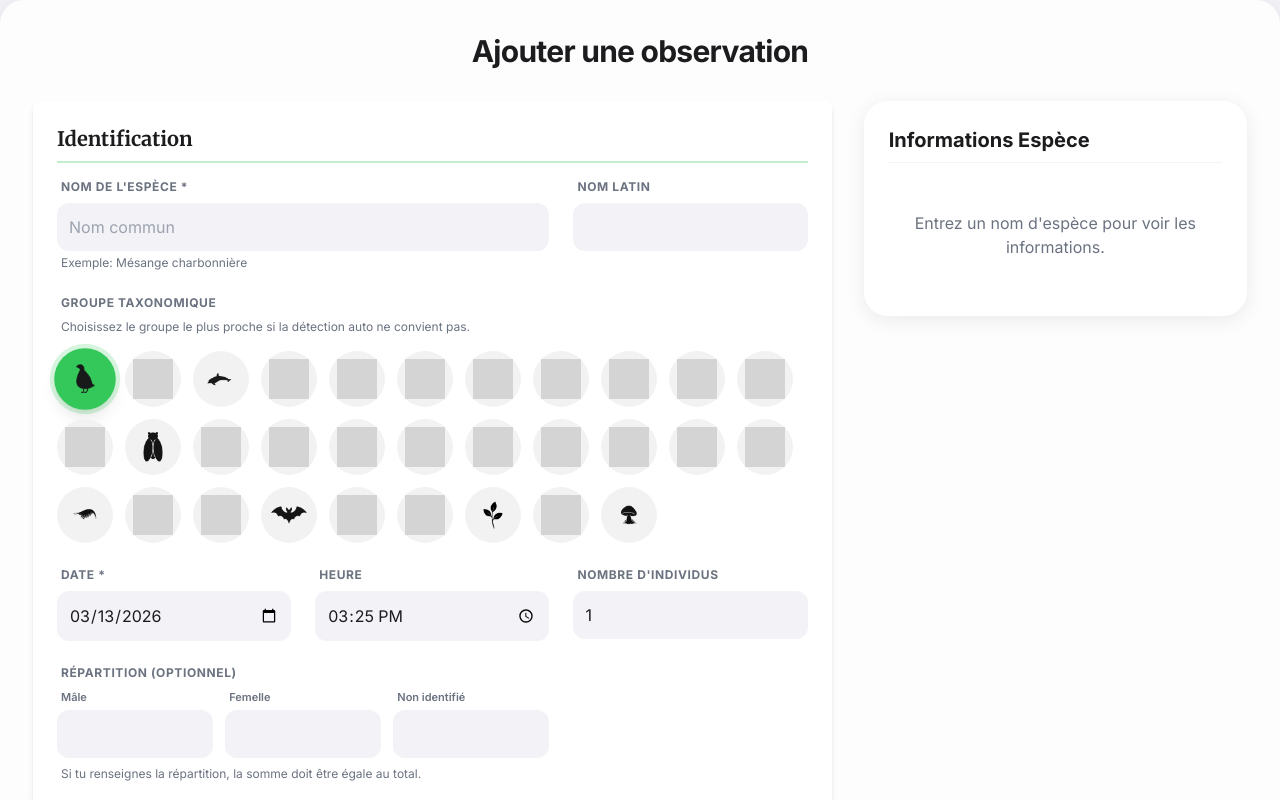
Test: ObservationForm species autocomplete › closes suggestions on escape
This screenshot has width=1280, height=800.
Step 1. Type "Mes" into the field labelled "Nom de l'espèce *" → (303, 227), box [57,203,549,251]
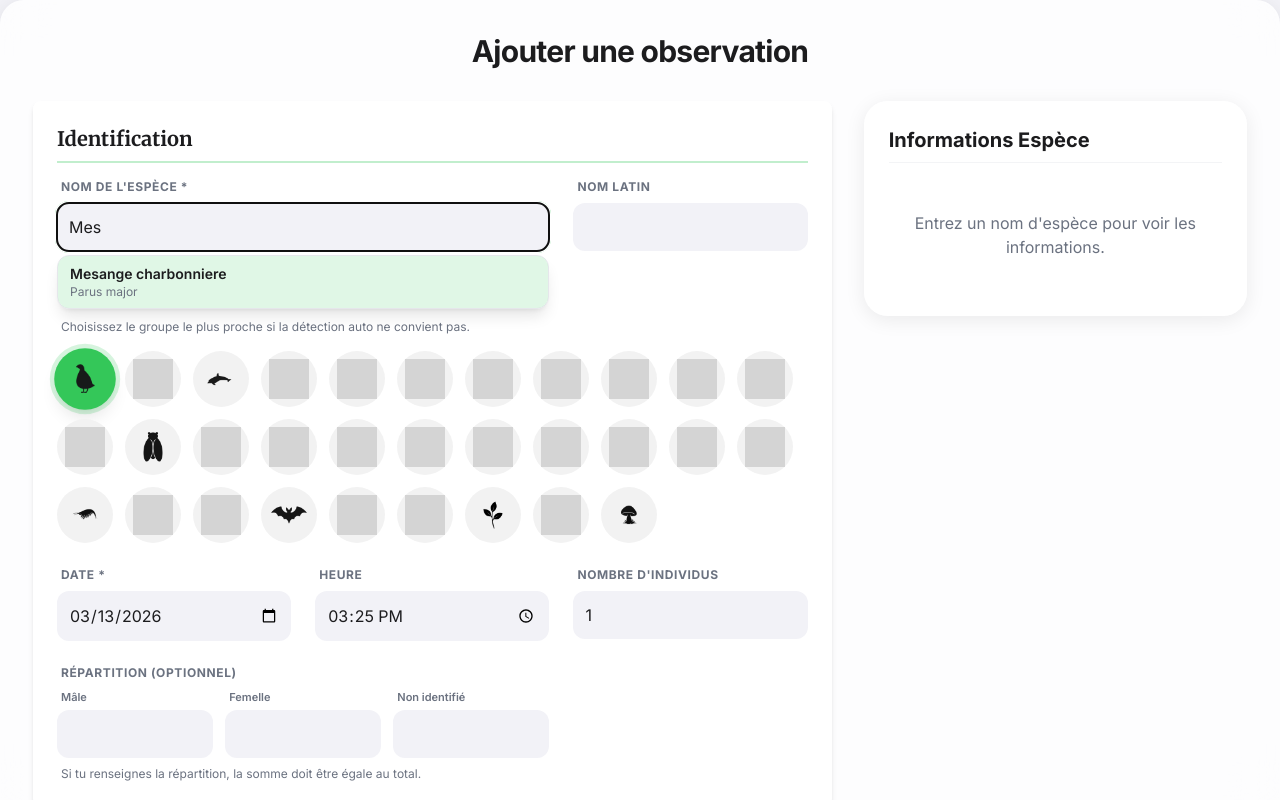
Check: the text "Mesange charbonniere" is shown, box [70,265,226,282]
Step 2. Press Escape
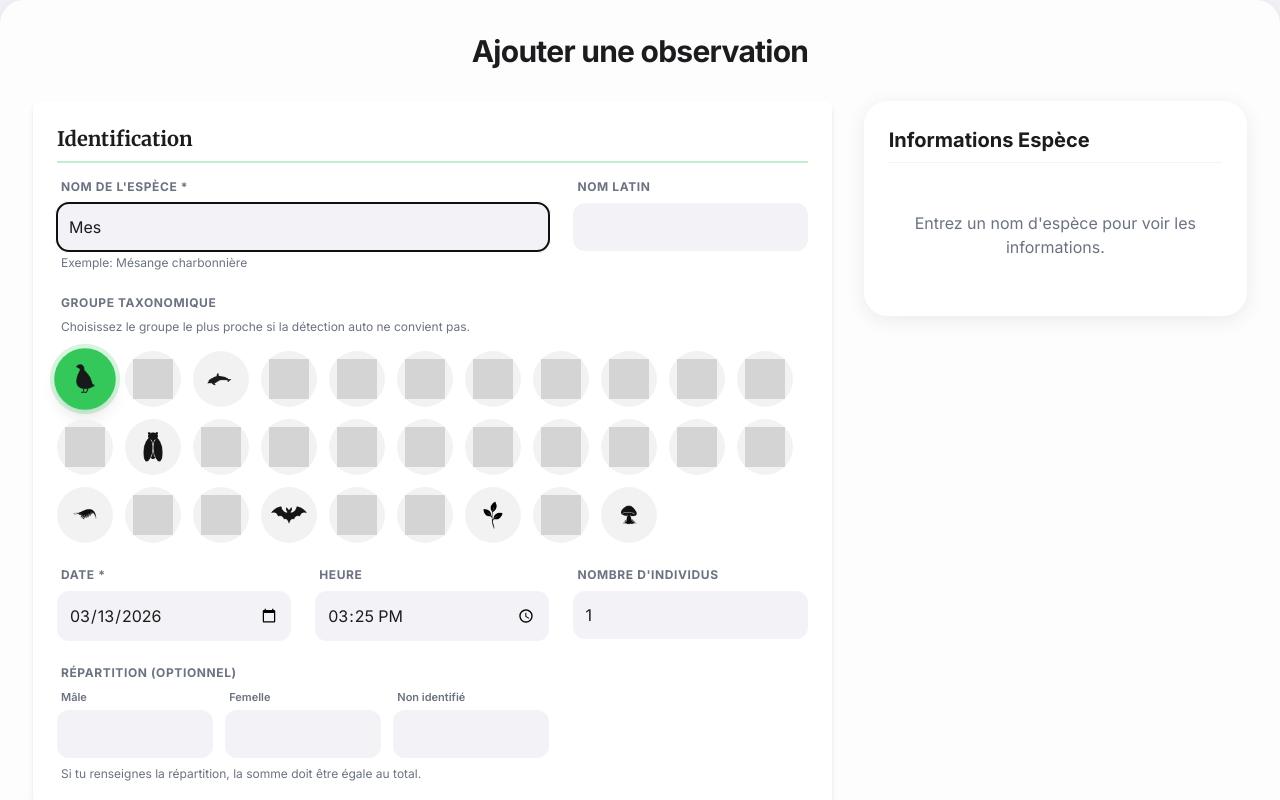
Check: the button "Mesange charbonniere" is gone
